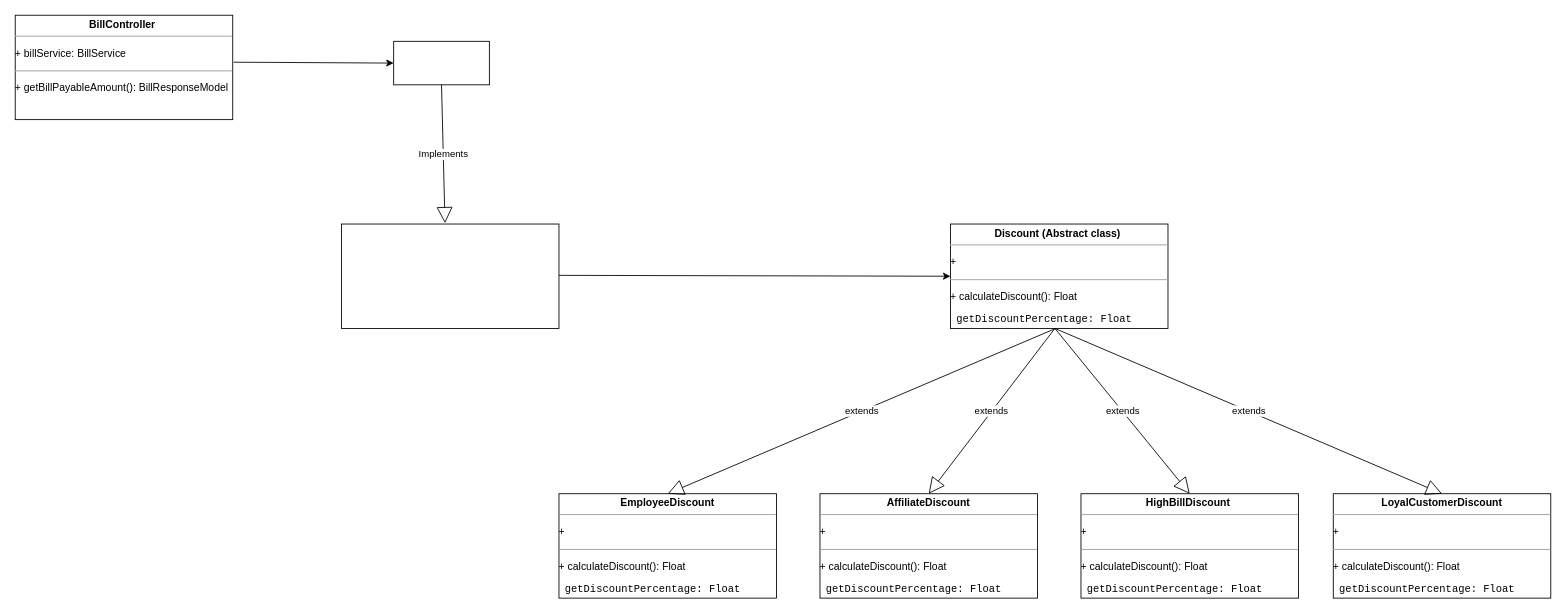
This 1566x613 diagram has some shape labels left out. Each missing label, with the centre of its shape:
BillServiceImpl + + getBillPayableAmount (): BillResponseModel: point 450,275
«interface» BillService: point 441,62
